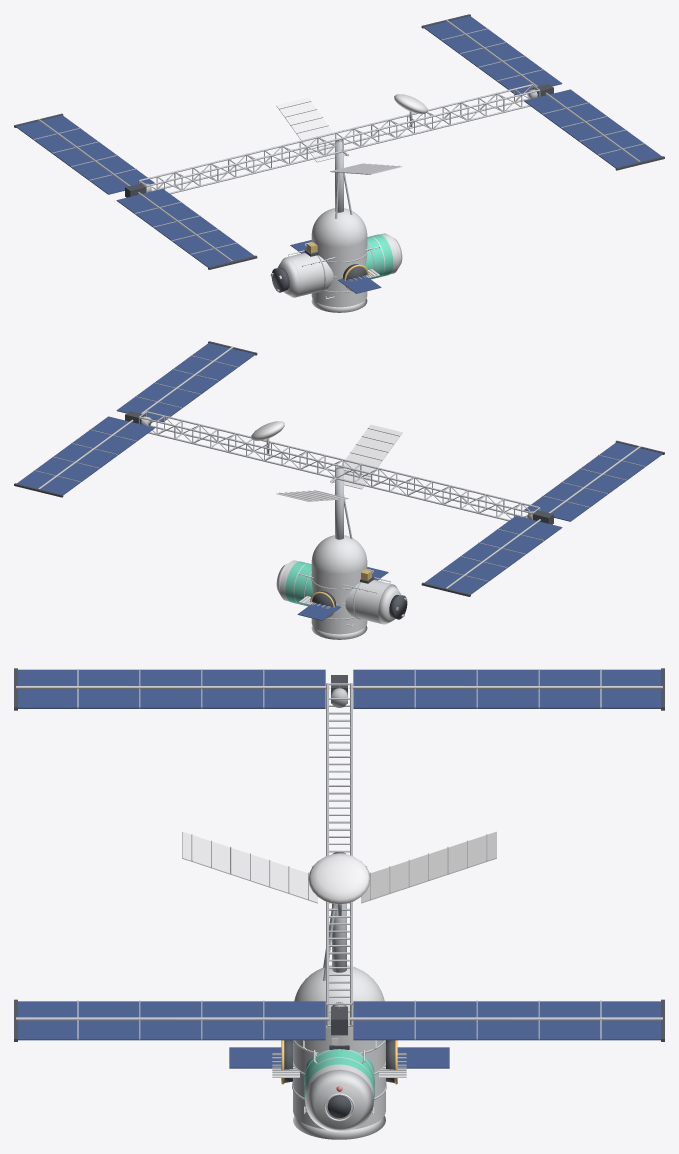
Rendered from station-CMhmkr7b.glb.
The picture shows the model from 3 angles, top to bottom: view 1: azimuth 30°, elevation 25°; view 2: azimuth 150°, elevation 25°; view 3: azimuth 270°, elevation 25°; orthographic projection. The views are drawn at different scales.
Parts seen in each view (by area): view 1: hub, module_catalog, module_search, module_checkout; view 2: hub, module_catalog, module_search, module_checkout; view 3: hub, module_catalog, module_checkout, module_search.
Boxes of the visible parts, <box> form: hub: <box>14,14,664,312</box>; module_catalog: <box>270,233,402,297</box>; module_search: <box>296,236,385,294</box>; module_checkout: <box>290,240,381,293</box>; hub: <box>14,341,664,639</box>; module_catalog: <box>276,560,407,624</box>; module_search: <box>293,563,382,621</box>; module_checkout: <box>297,567,388,620</box>; hub: <box>14,668,664,1139</box>; module_catalog: <box>272,1038,406,1131</box>; module_checkout: <box>229,1047,449,1074</box>; module_search: <box>272,1050,406,1092</box>.
Bounding box in the file's own units: 25.5 × 10.15 × 18.92.
